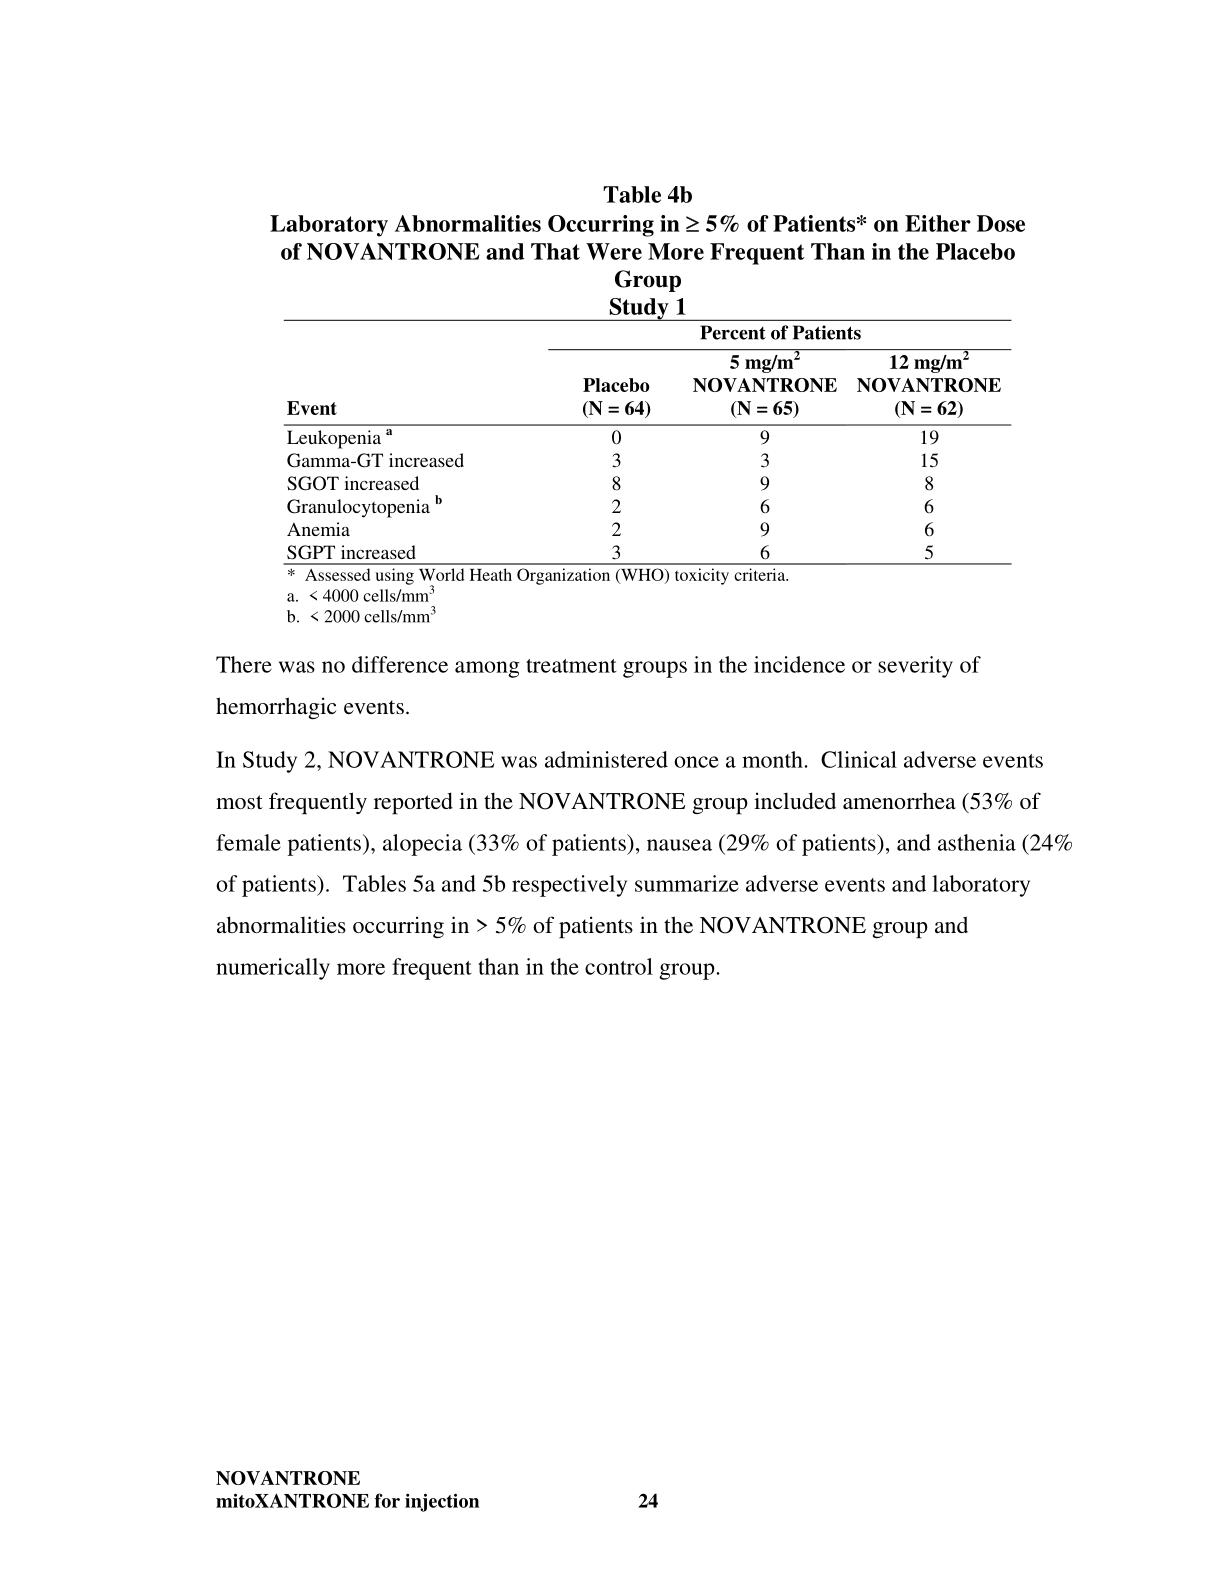partial_lined_merged_cells: (283, 318, 1014, 567)
